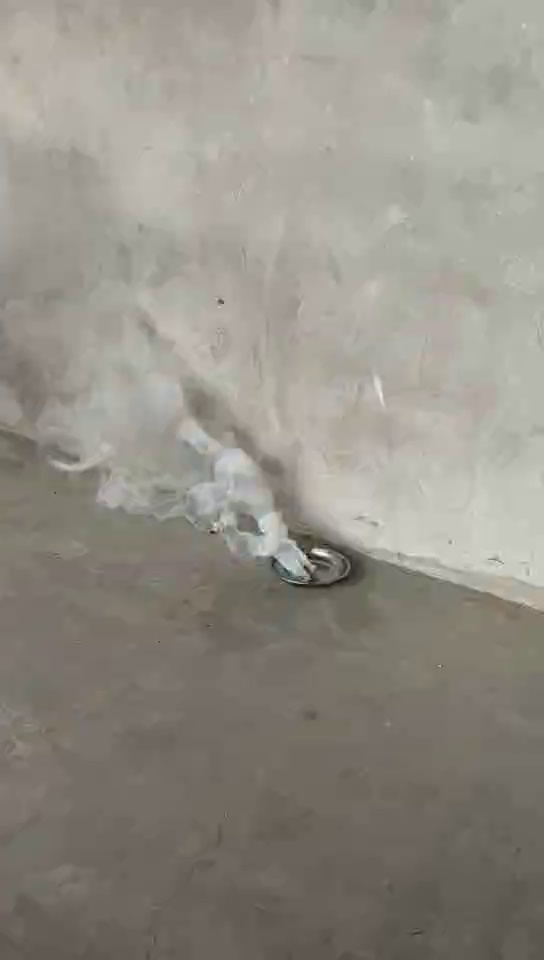yanwu: (55, 347, 313, 574)
